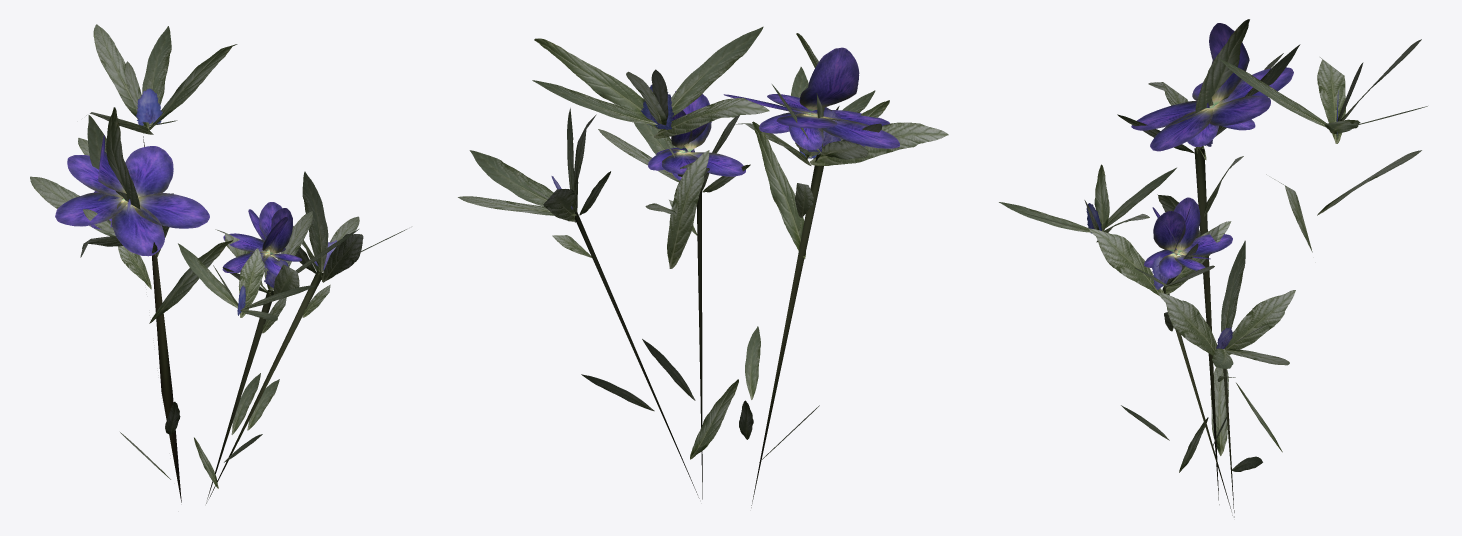
Rendered from leafplant12_lod2.fbx.
3 renders of one model, left to right at view 1: azimuth 30°, elevation 25°; view 2: azimuth 150°, elevation 25°; view 3: azimuth 270°, elevation 25°, orthographic. The views are drawn at different scales.
Parts seen in each view (by area): view 1: Mesh Object; view 2: Mesh Object; view 3: Mesh Object.
Part boxes in pixels (x1=…): Mesh Object: x1=30, y1=24, x2=406, y2=503; Mesh Object: x1=458, y1=26, x2=948, y2=507; Mesh Object: x1=999, y1=19, x2=1427, y2=517.
Size of the model in its own units: 1.26 by 1.38 by 1.18.
